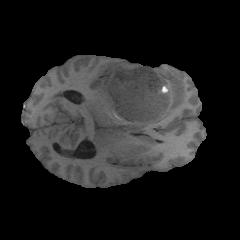glioma: (102, 65, 185, 126)
